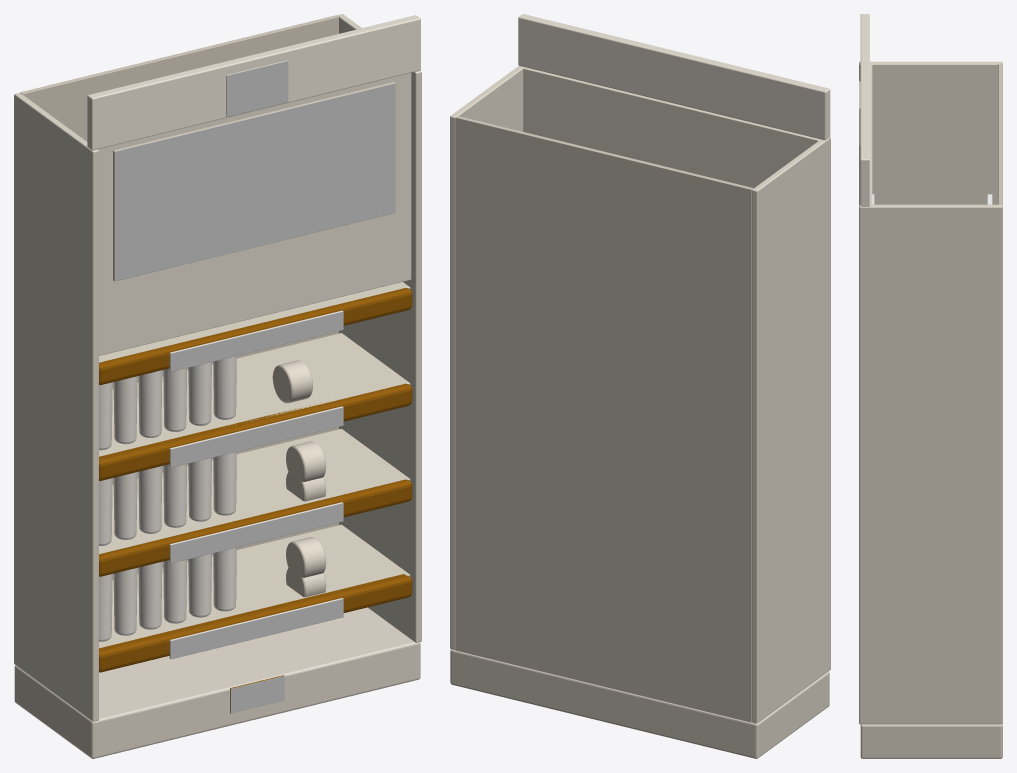
File: display_rack_2.obj
3 renders of one model, left to right at view 1: azimuth 30°, elevation 25°; view 2: azimuth 150°, elevation 25°; view 3: azimuth 270°, elevation 25°, orthographic. The views are drawn at different scales.
Parts seen in each view (by area): view 1: body.side_1, header.graphic, header.board, base.plinth, crown, body.side_2, shelf.deck_3, shelf.deck_2, shelf.deck_1, body.back, shelf.nose_1, shelf.nose_3 (+32 smaller); view 2: body.back, body.side_1, header.board, crown, base.plinth, body.side_2; view 3: body.side_2, body.side_1, base.plinth, crown, body.back, header.board.
Part boxes in pixels (box(x1,y1,x2,y2)): body.side_1: box(14, 92, 98, 721); header.graphic: box(113, 82, 395, 281); header.board: box(98, 73, 411, 355); base.plinth: box(14, 607, 420, 758); crown: box(87, 15, 420, 150); body.side_2: box(337, 14, 421, 642); shelf.deck_3: box(99, 333, 410, 456); shelf.deck_2: box(99, 429, 410, 554); shelf.deck_1: box(99, 524, 410, 648); body.back: box(20, 15, 338, 580); shelf.nose_1: box(99, 574, 412, 672); shelf.nose_3: box(99, 383, 412, 480); body.back: box(455, 116, 753, 722); body.side_1: box(751, 137, 830, 723); header.board: box(523, 67, 820, 188); crown: box(518, 14, 830, 140); base.plinth: box(450, 649, 829, 758); body.side_2: box(450, 66, 524, 649); body.side_2: box(859, 204, 1002, 724); body.side_1: box(859, 61, 1002, 204); base.plinth: box(860, 724, 1002, 758); crown: box(860, 14, 869, 206); body.back: box(998, 64, 1002, 204); header.board: box(870, 64, 872, 204).
Bounding box in the file's own units: 0.914 × 1.75 × 0.381.
